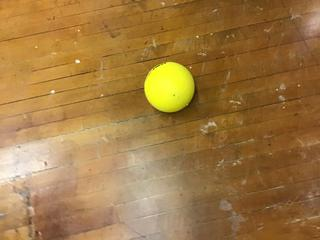power_cell: (142, 54, 199, 116)
